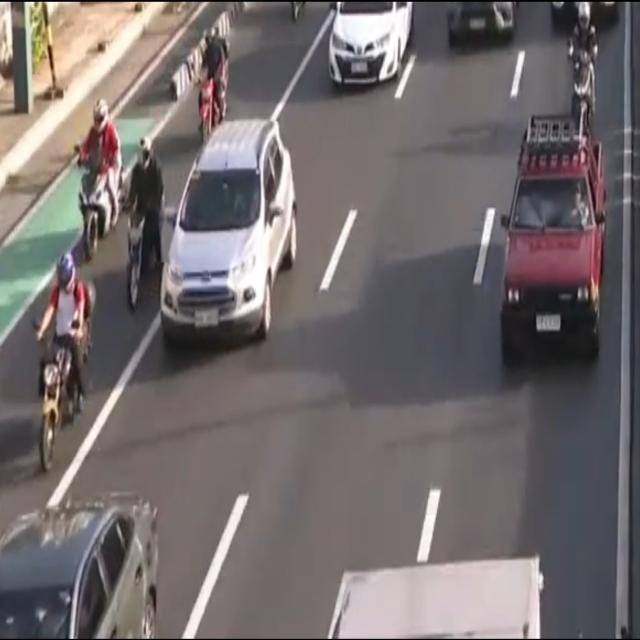Motorcycle: (30, 249, 98, 471), (119, 126, 166, 310), (72, 96, 122, 258), (563, 1, 600, 150), (191, 30, 228, 144)
SUV: (159, 119, 298, 348), (502, 120, 609, 356)
Sedan: (0, 500, 157, 640), (329, 0, 412, 86)
